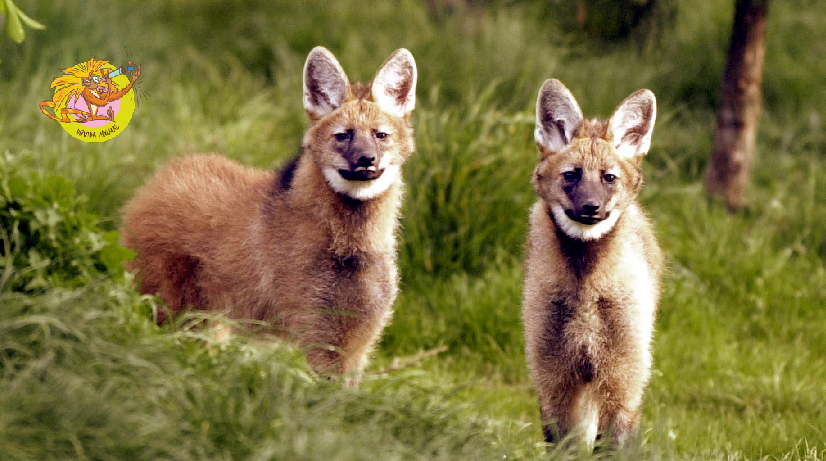LoboGuara: (126, 51, 424, 361), (483, 68, 673, 429)
